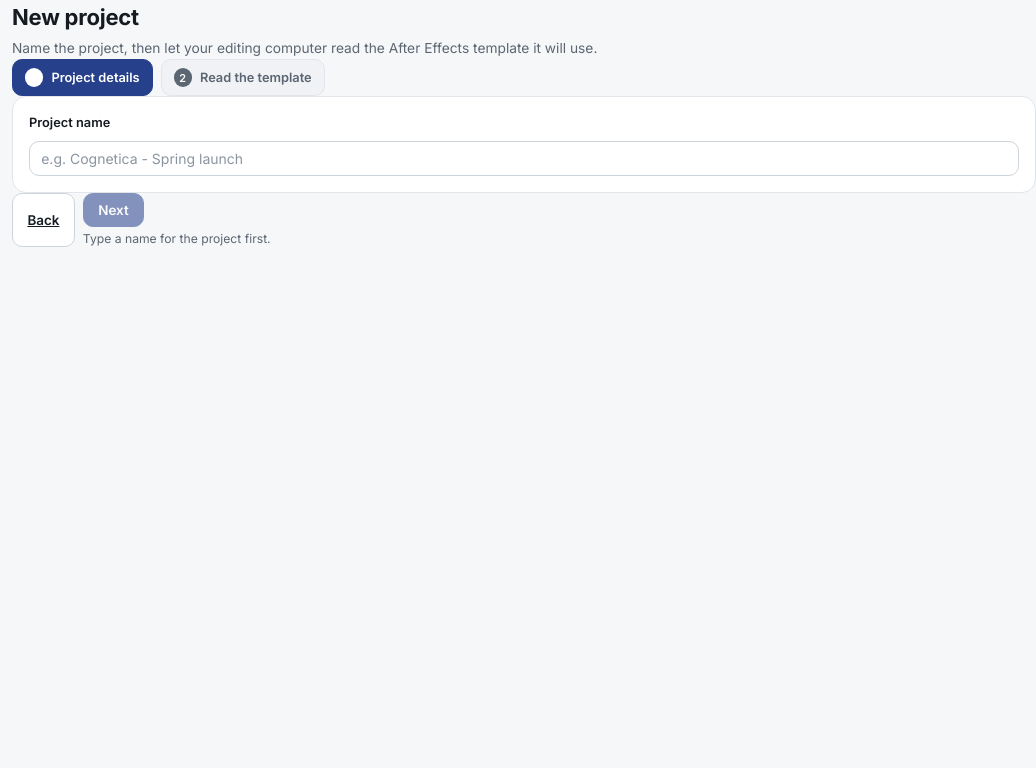
Scenario: NewProjectWizard › shows the real failure reason and offers to retry - never a generic dead end
The image size is (1036, 768).
Type "Real Project" into the field labelled "Project name".
click(524, 158); type("Real Project")  # box [29,141,1019,176]
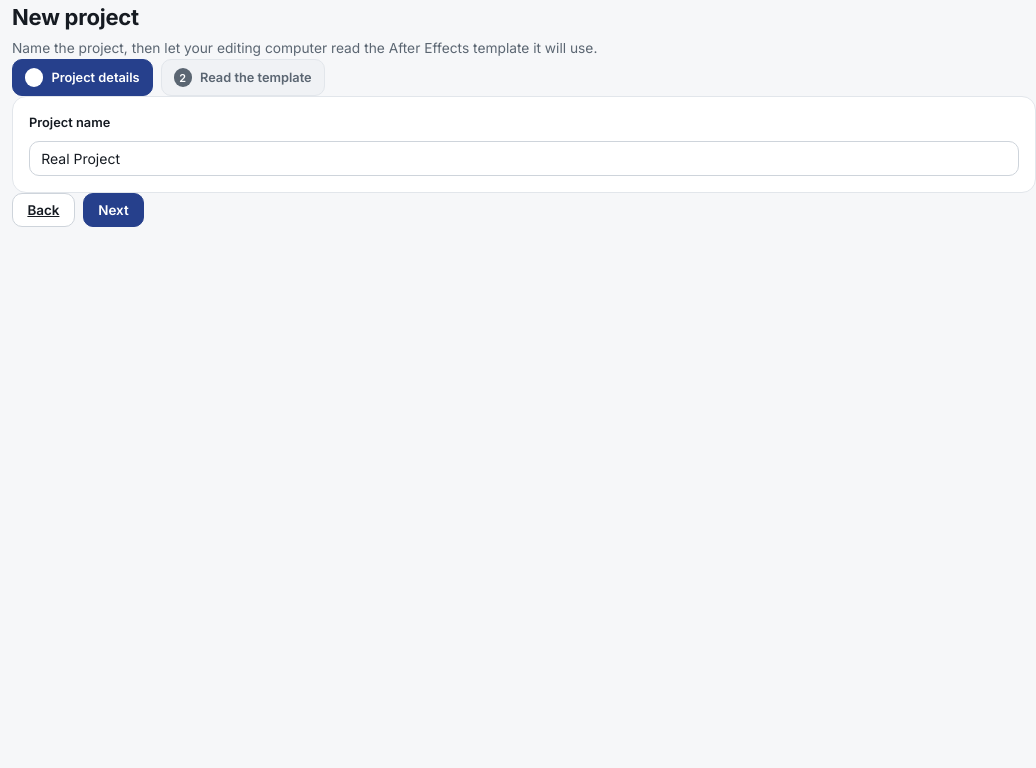
Click the button "Next".
click(113, 210)  # box [83,193,144,227]
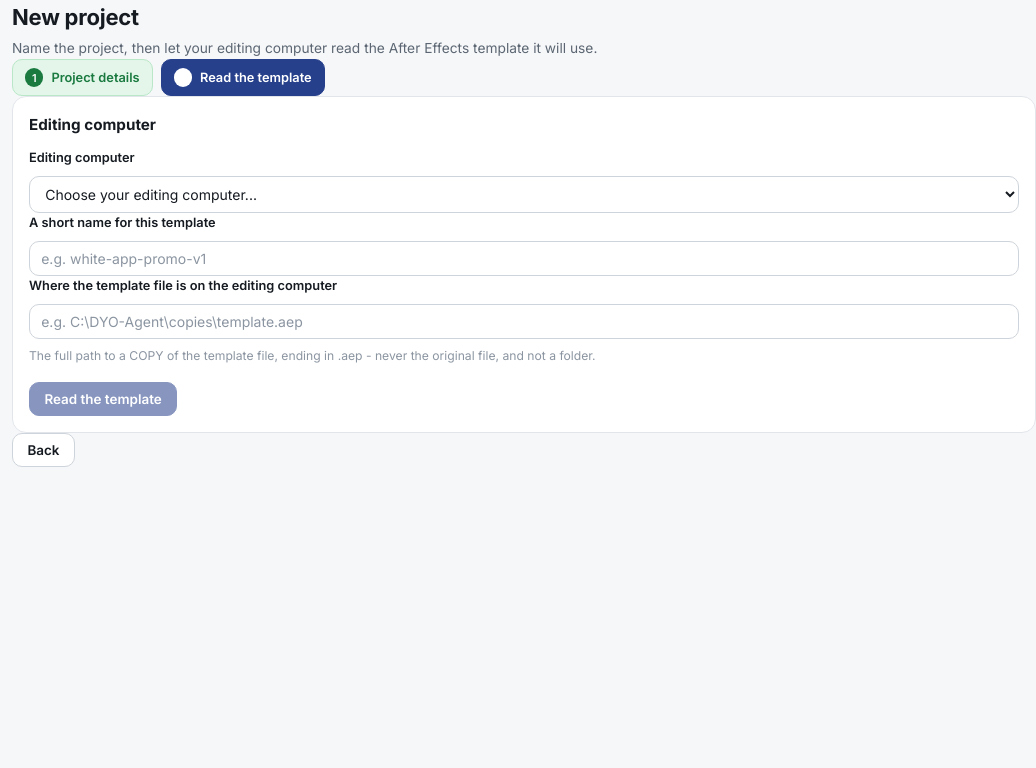
Now the dropdown is shown
Select "worker-a" in the dropdown at [524, 195], box [29,176,1019,213]
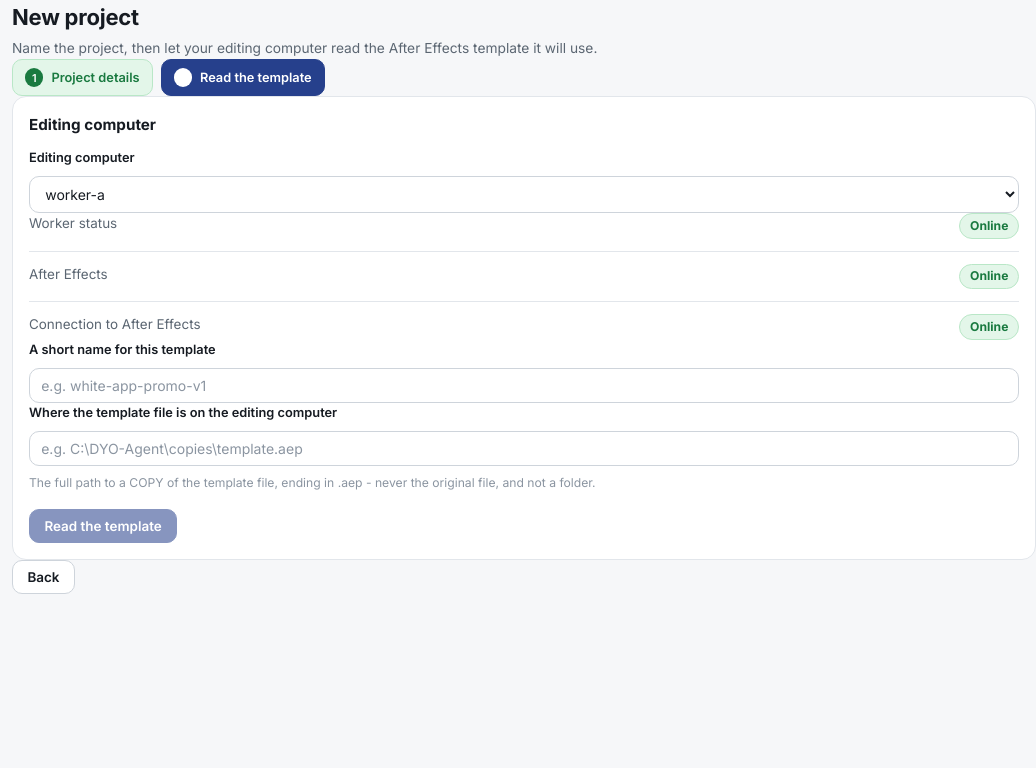
Type "tmpl-1" into the field labelled "A short name for this template".
click(524, 385); type("tmpl-1")  # box [29,368,1019,403]
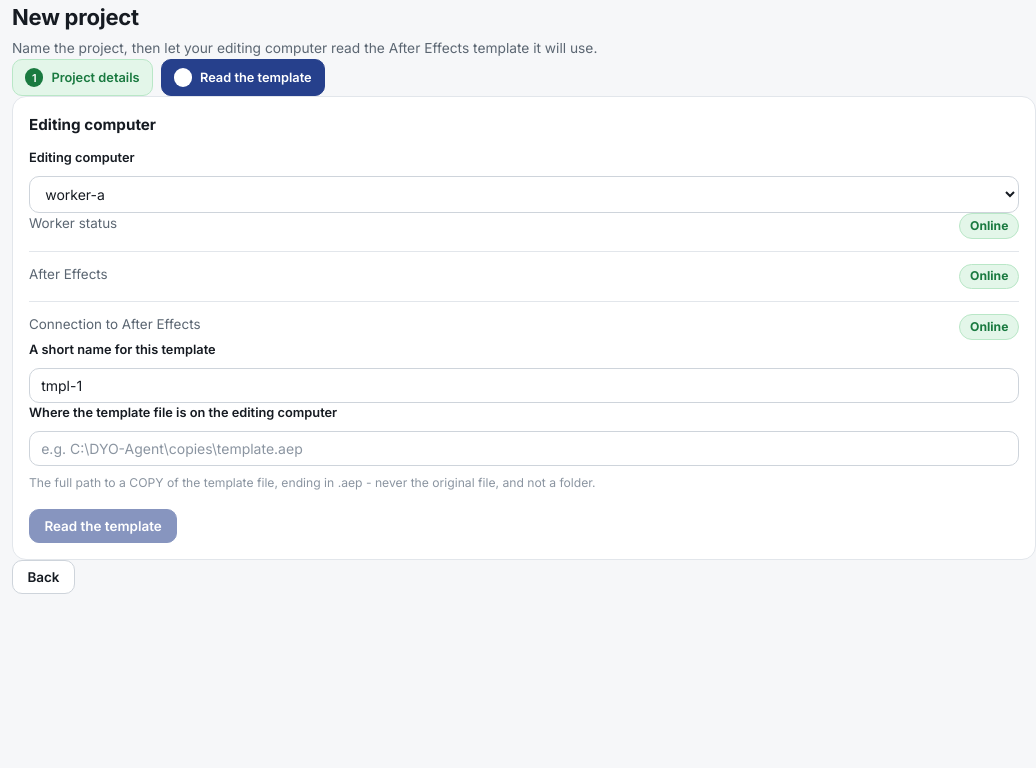
Type "/copies/t1.aep" into the field labelled "Where the template file is on the editing computer".
click(524, 448); type("/copies/t1.aep")  # box [29,431,1019,466]
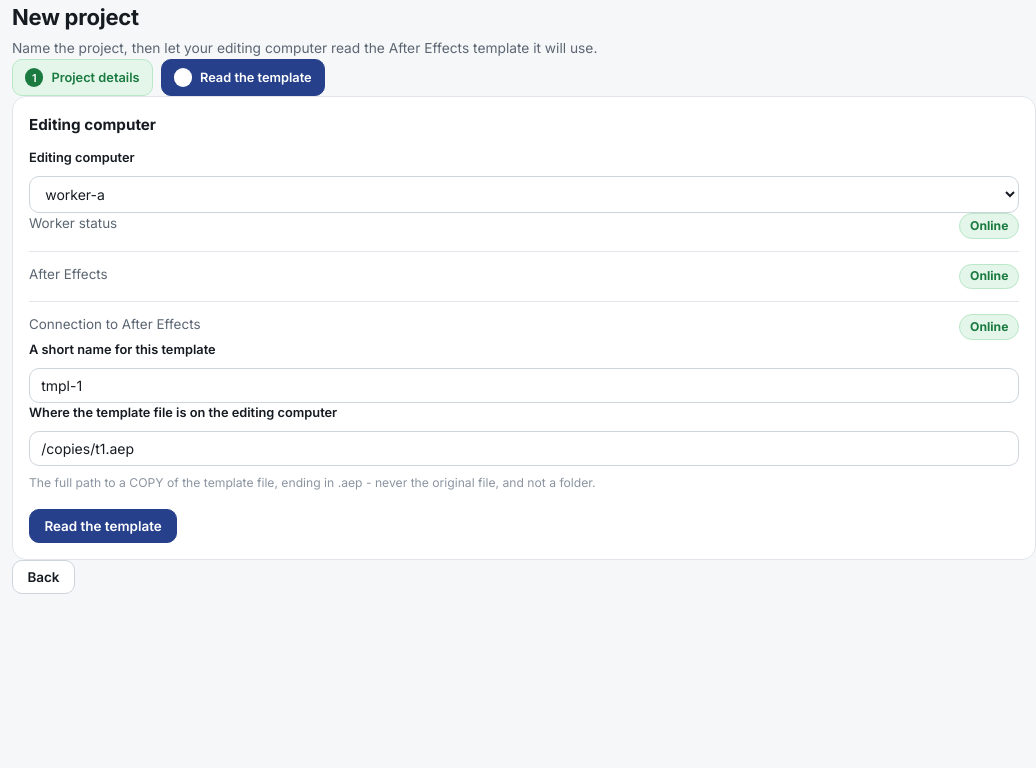
Click the button "Read the template".
click(103, 526)  # box [29,508,177,543]
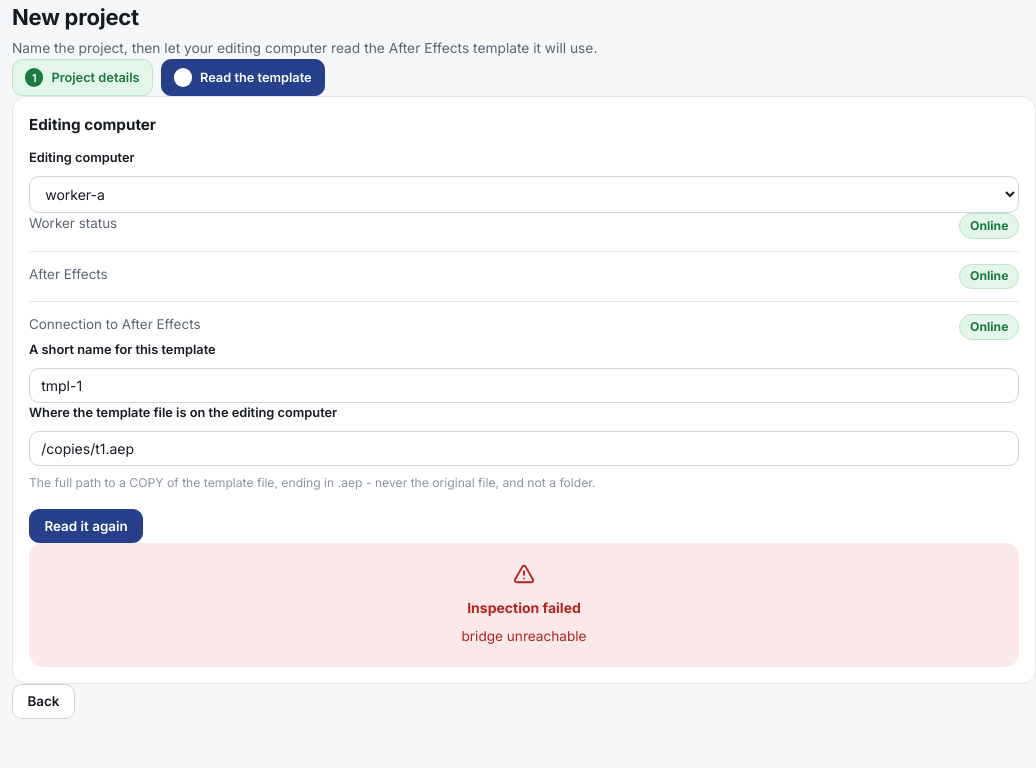
Now the button "Read it again" is enabled, box [29,508,143,543]
Now the text "bridge unreachable" is shown, box [462,626,586,647]
